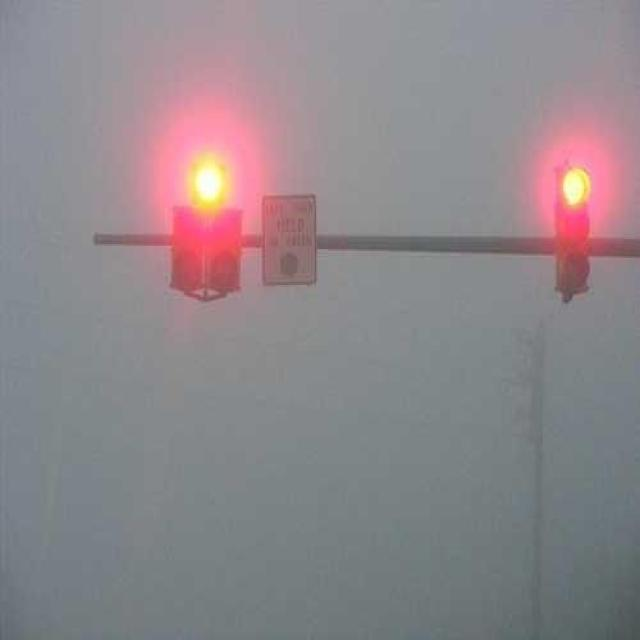Traffic Light -Red-: (164, 154, 246, 299), (544, 167, 602, 302)
